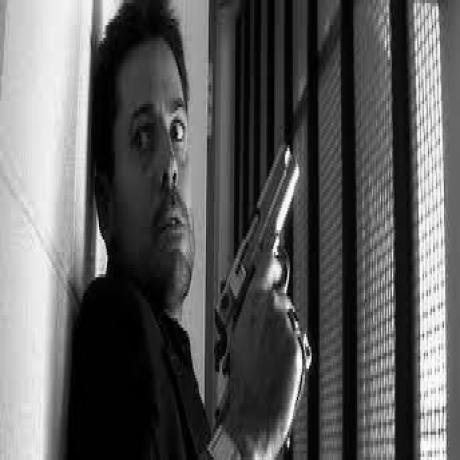Guns: (218, 138, 316, 409)
